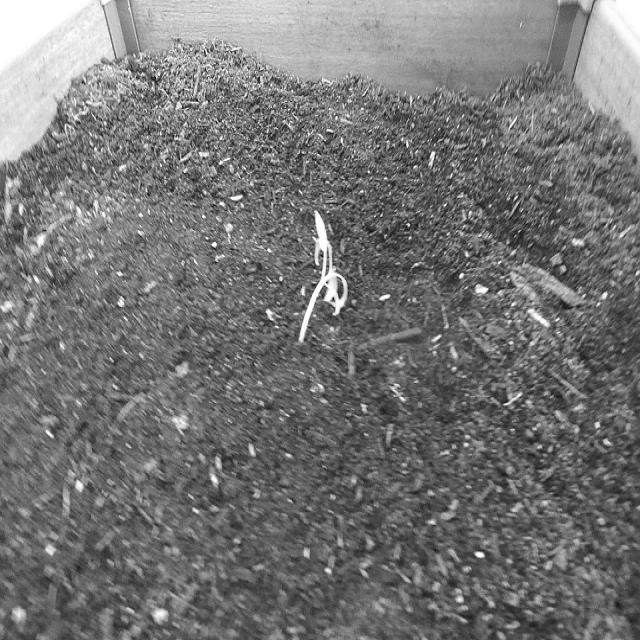Unhealthy: (292, 202, 351, 352)
